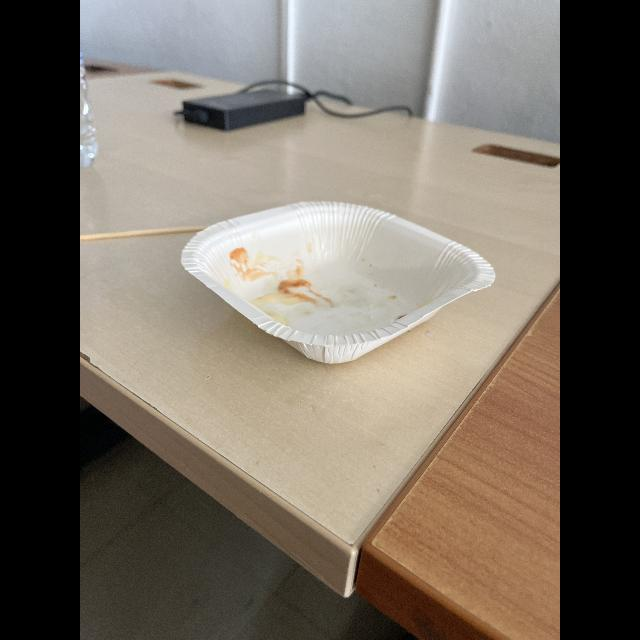cardboard_bowl: (176, 189, 496, 369)
stick: (80, 221, 206, 247)
